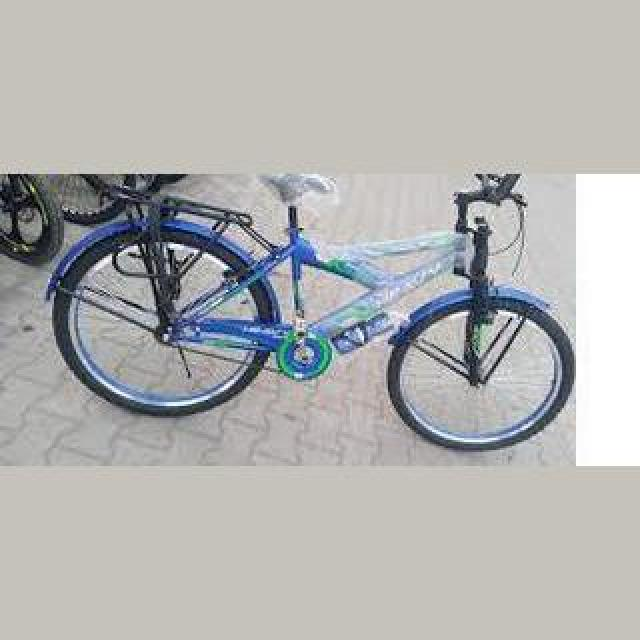Person: (40, 174, 574, 454)
